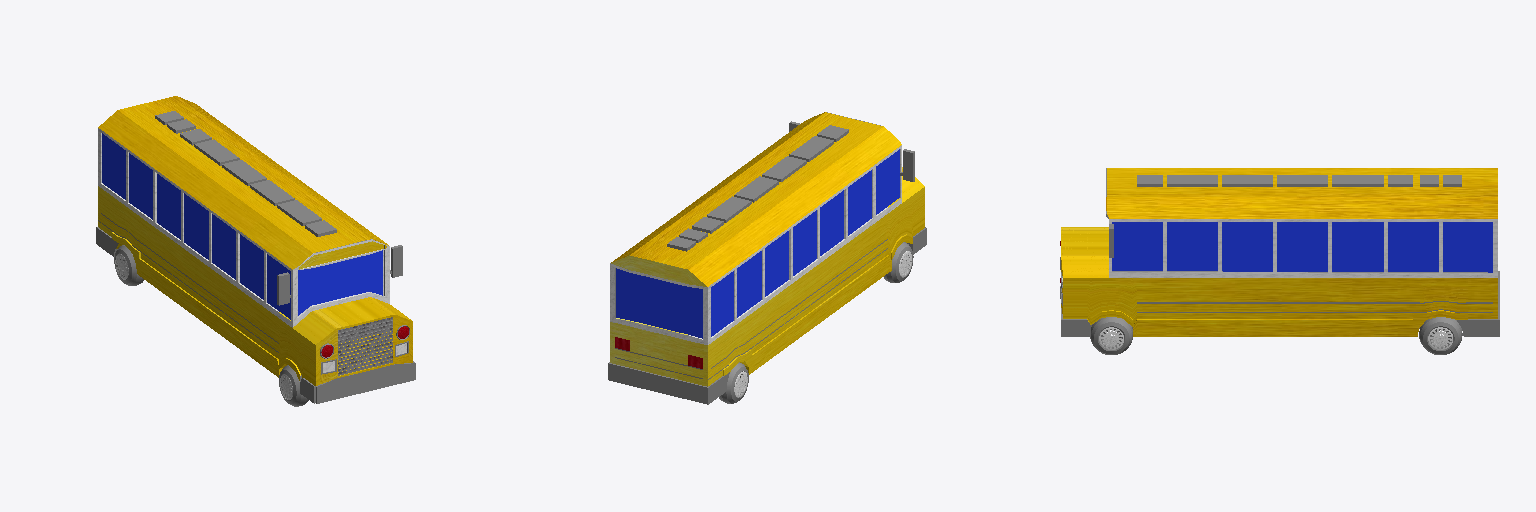
The picture shows the model from 3 angles: view 1: azimuth 30°, elevation 25°; view 2: azimuth 150°, elevation 25°; view 3: azimuth 270°, elevation 25°; orthographic projection.
Parts seen in each view (by area): view 1: Cube; view 2: Cube; view 3: Cube, Torus_003_Torus_005, Torus_002.
Boxes of the visible parts, <box> form: Cube: <box>96,96,415,403</box>; Cube: <box>608,112,926,404</box>; Cube: <box>1060,168,1499,336</box>; Torus_003_Torus_005: <box>1419,317,1462,354</box>; Torus_002: <box>1090,317,1132,354</box>.
Bounding box in the file's own units: 8.91 × 10.47 × 27.28.
9 materials, 5 textured.